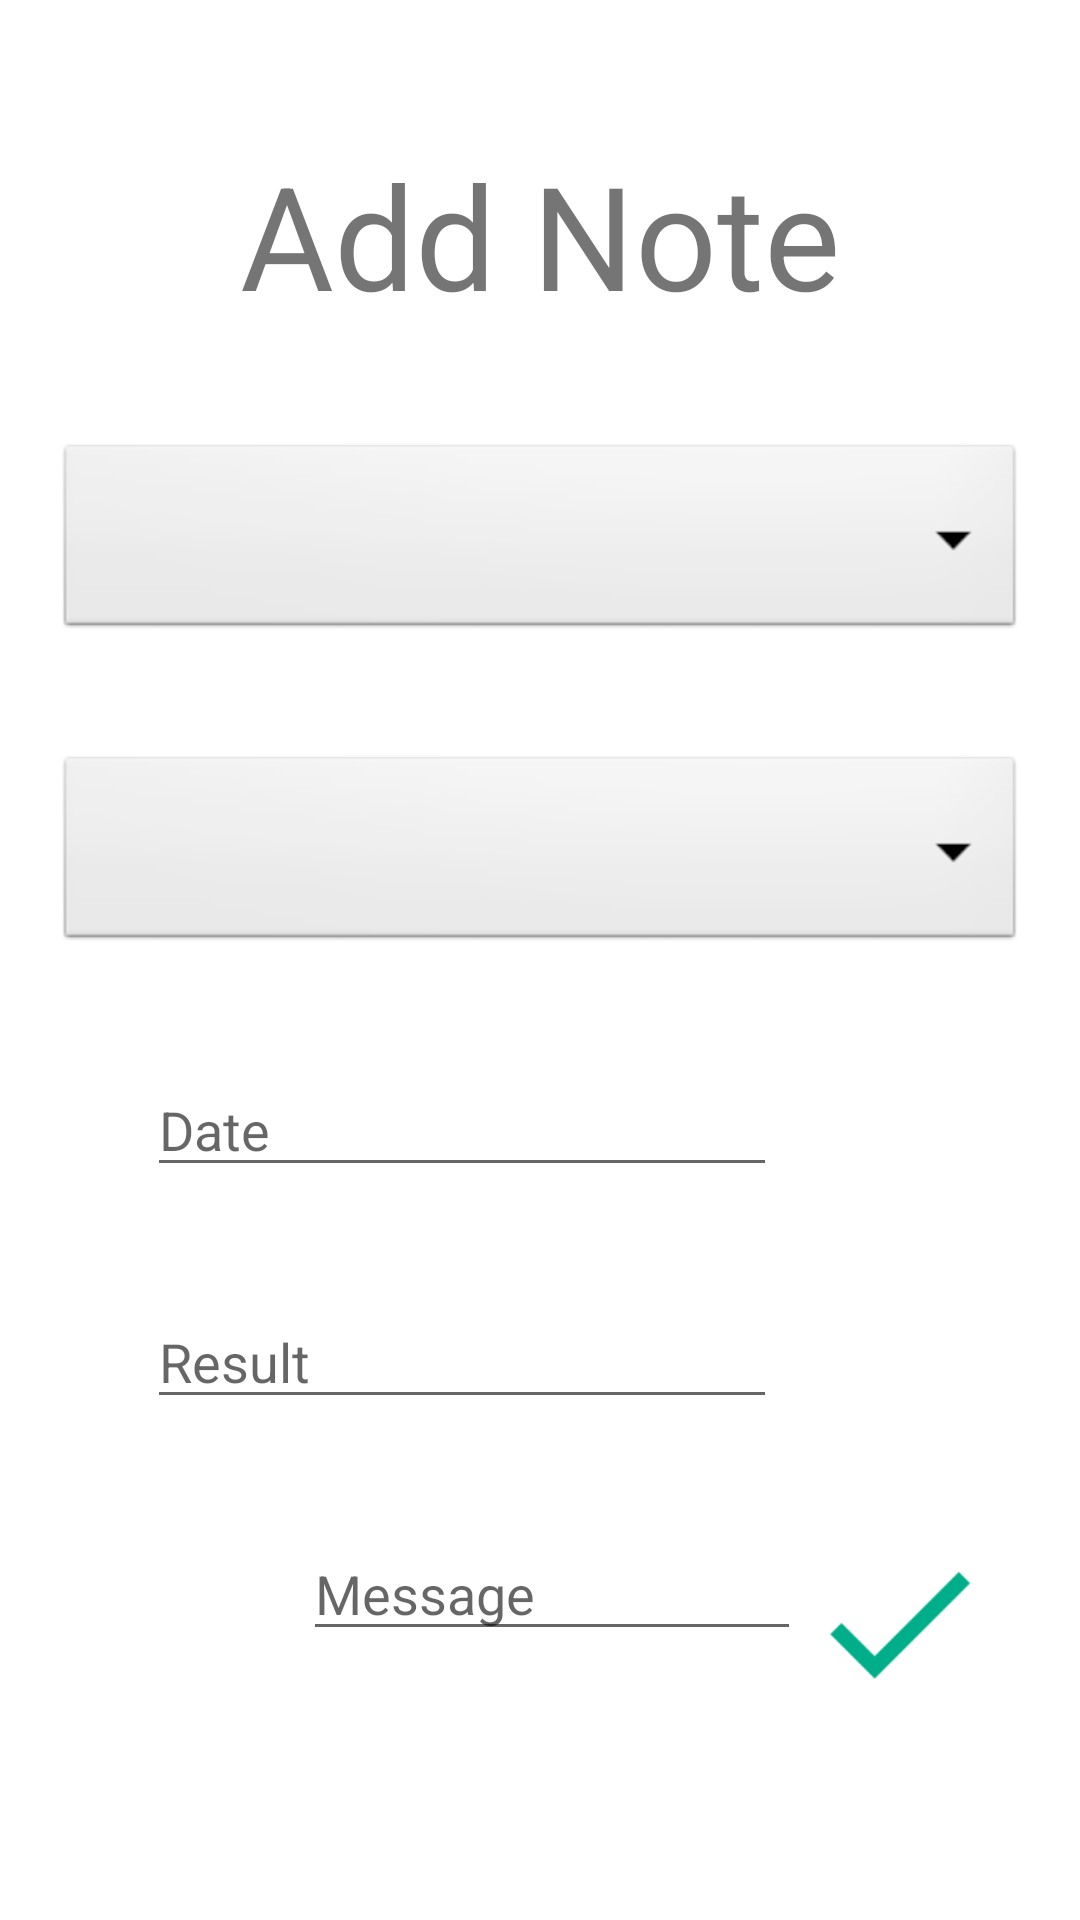

Point at icon controls on the screen. Image size 1080px x 1920px, points as [x,y].
validate: [900,1625]
